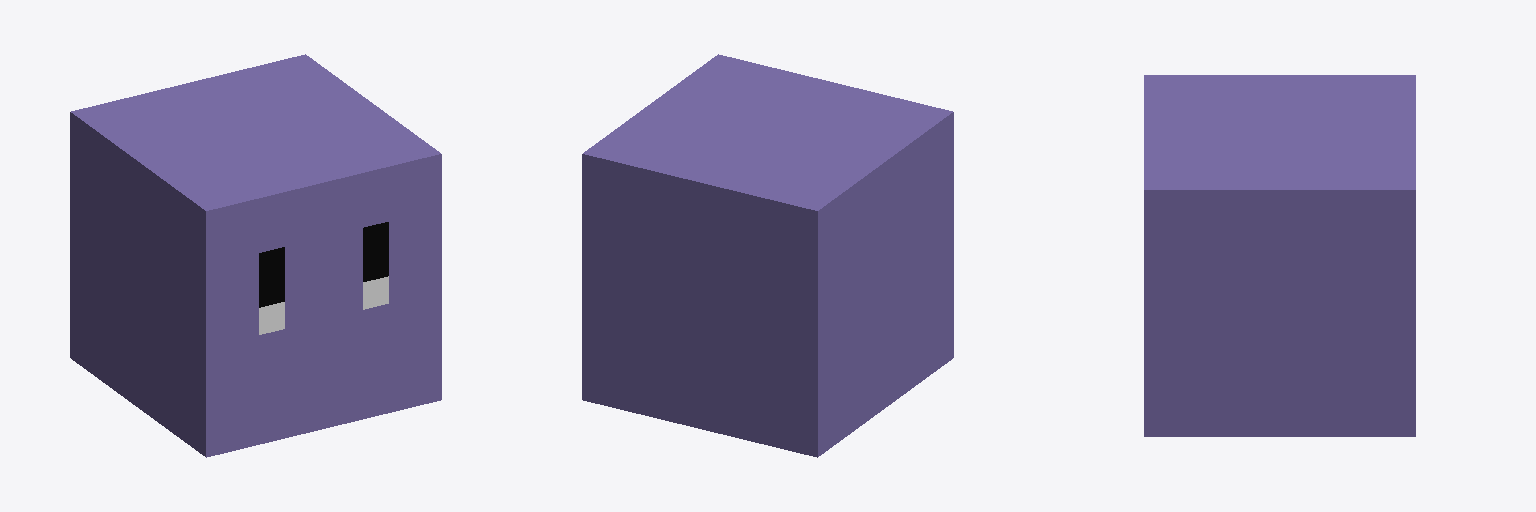
3 views of the same model, side by side, from view 1: azimuth 30°, elevation 25°; view 2: azimuth 150°, elevation 25°; view 3: azimuth 270°, elevation 25° (orthographic).
Parts seen in each view (by area): view 1: object 1; view 2: object 1; view 3: object 1.
Boxes of the visible parts, <box> form: object 1: <box>70,54,441,457</box>; object 1: <box>582,54,953,457</box>; object 1: <box>1144,75,1415,436</box>.
Bounding box in the file's own units: 0.9 × 0.9 × 0.9.
Materials: 1 (1 with a texture image).